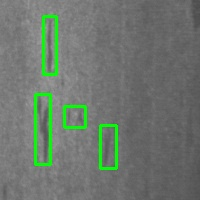inclusion: (35, 94, 50, 164), (43, 17, 56, 74), (100, 125, 116, 168), (64, 106, 85, 127)
